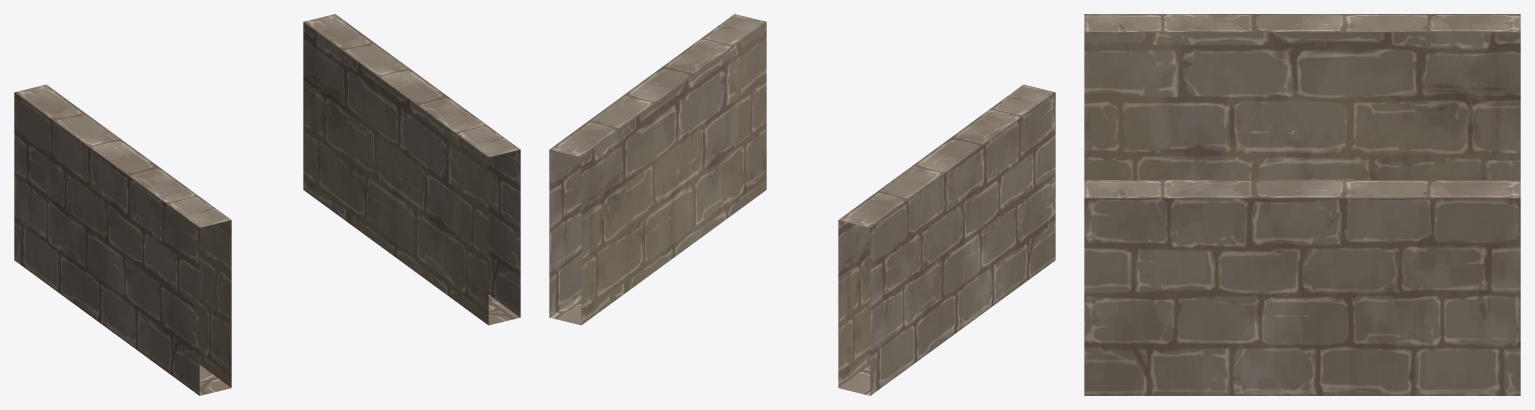
Rendered from Stairs_Exterior_Sides.gltf.
The picture shows the model from 3 angles, left to right: view 1: azimuth 30°, elevation 25°; view 2: azimuth 150°, elevation 25°; view 3: azimuth 270°, elevation 25°; orthographic projection. The views are drawn at different scales.
Visible parts, largest first — view 1: Stairs_Exterior_Sides; view 2: Stairs_Exterior_Sides; view 3: Stairs_Exterior_Sides.
Part boxes in pixels (left/top/right/bottom): Stairs_Exterior_Sides: left=14, top=14, right=520, bottom=395; Stairs_Exterior_Sides: left=549, top=14, right=1055, bottom=395; Stairs_Exterior_Sides: left=1084, top=14, right=1520, bottom=395.
Bounding box in the file's own units: 2 × 1 × 2.
Materials: 1 (1 with a texture image).
